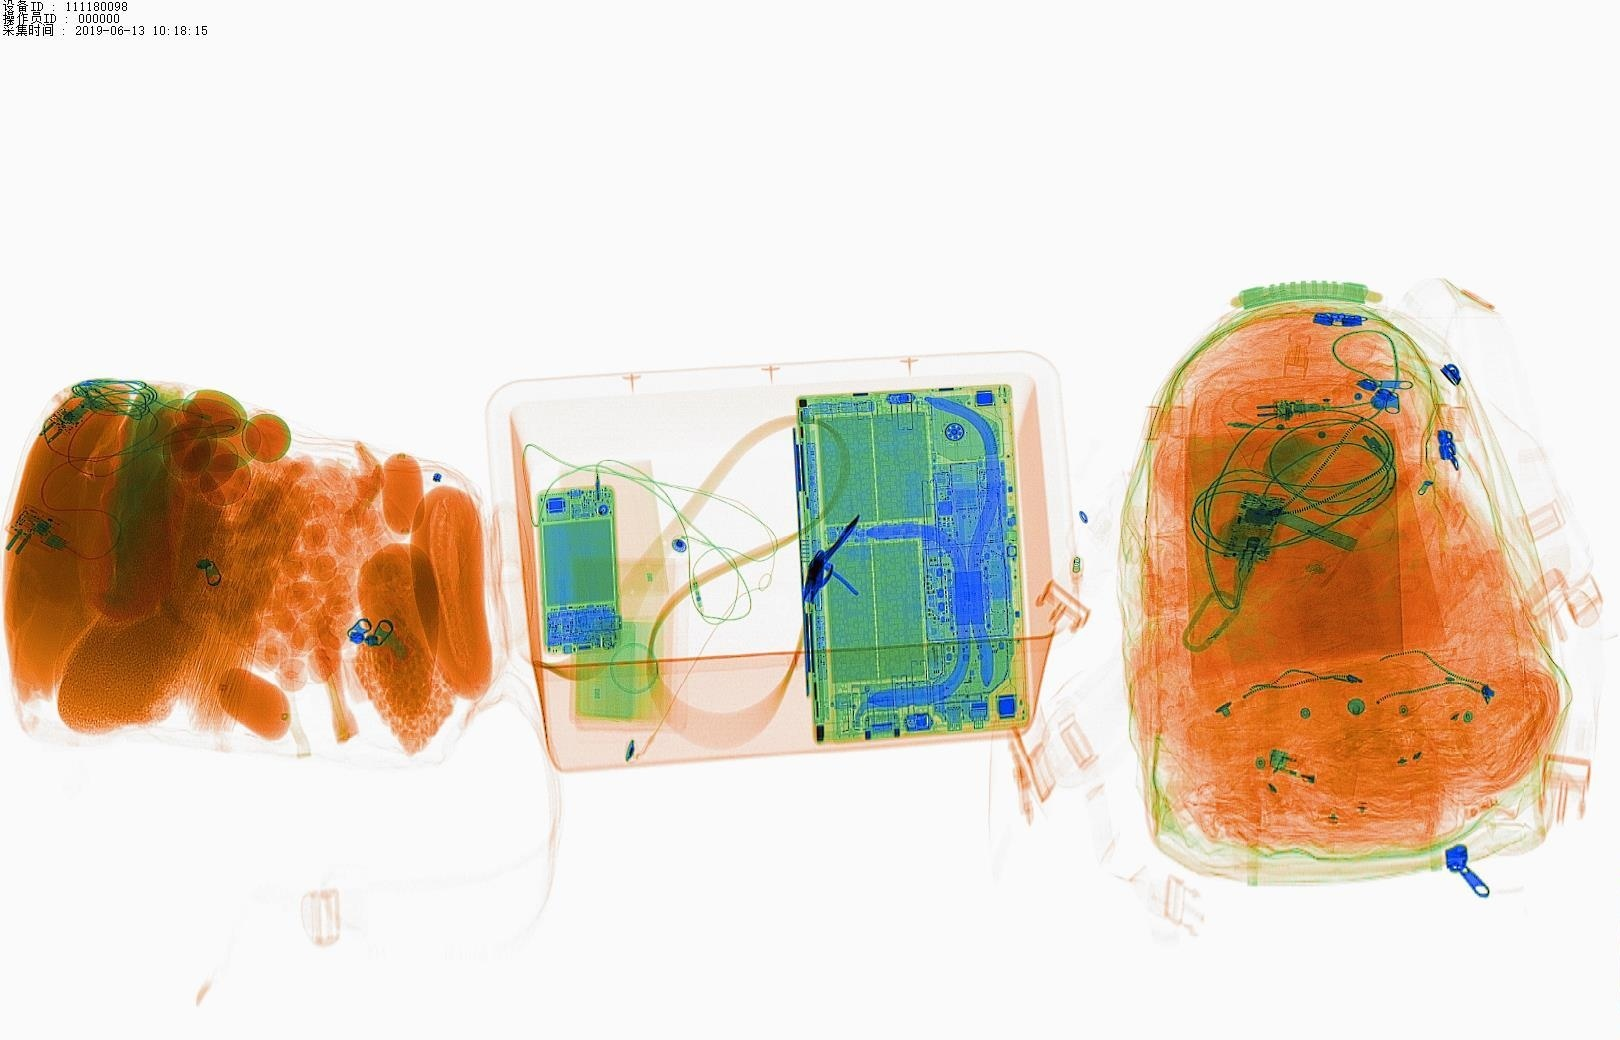NonmetallicFire: (1250, 733, 1394, 820)
